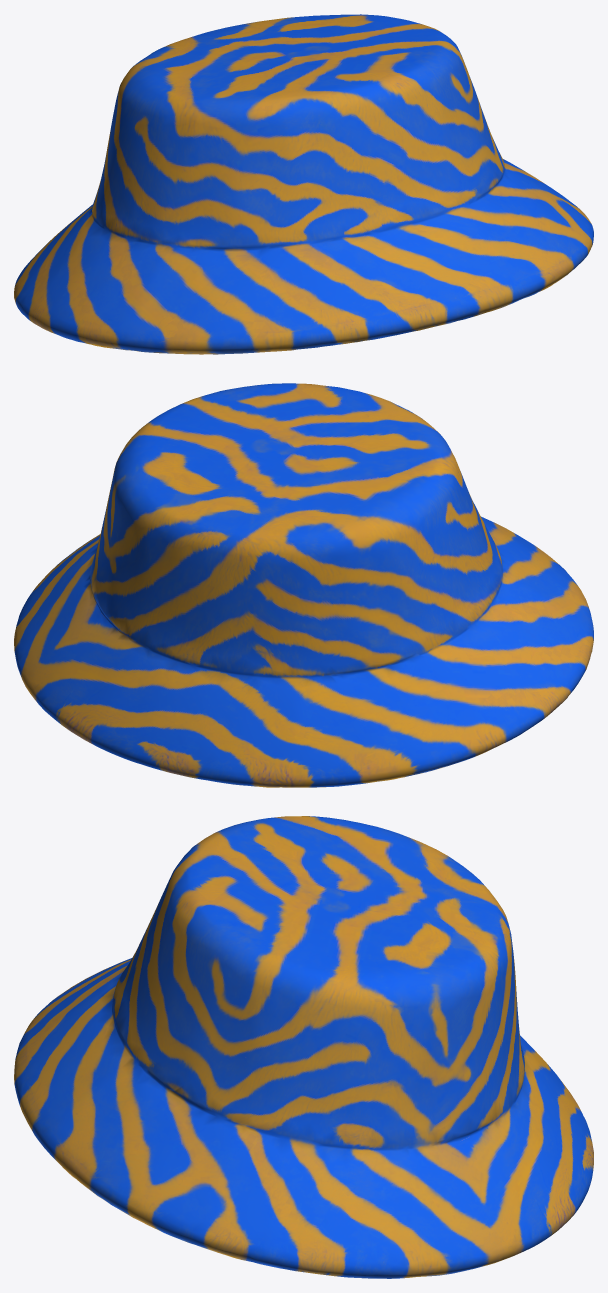
File: Fuzzy-Bucket-Orange-Blue.glb
The picture shows the model from 3 angles, top to bottom: view 1: azimuth 30°, elevation 25°; view 2: azimuth 150°, elevation 25°; view 3: azimuth 270°, elevation 25°; orthographic projection. The views are drawn at different scales.
Parts seen in each view (by area): view 1: Fuzzy-Bucket-Orange-Blue; view 2: Fuzzy-Bucket-Orange-Blue; view 3: Fuzzy-Bucket-Orange-Blue.
Part boxes in pixels (box(x1,y1,x2,y2)): Fuzzy-Bucket-Orange-Blue: box(14, 14, 593, 354); Fuzzy-Bucket-Orange-Blue: box(14, 383, 593, 787); Fuzzy-Bucket-Orange-Blue: box(14, 816, 593, 1278).
Bounding box in the file's own units: 0.7047 × 0.336 × 0.5977.
1 material, 1 textured.
